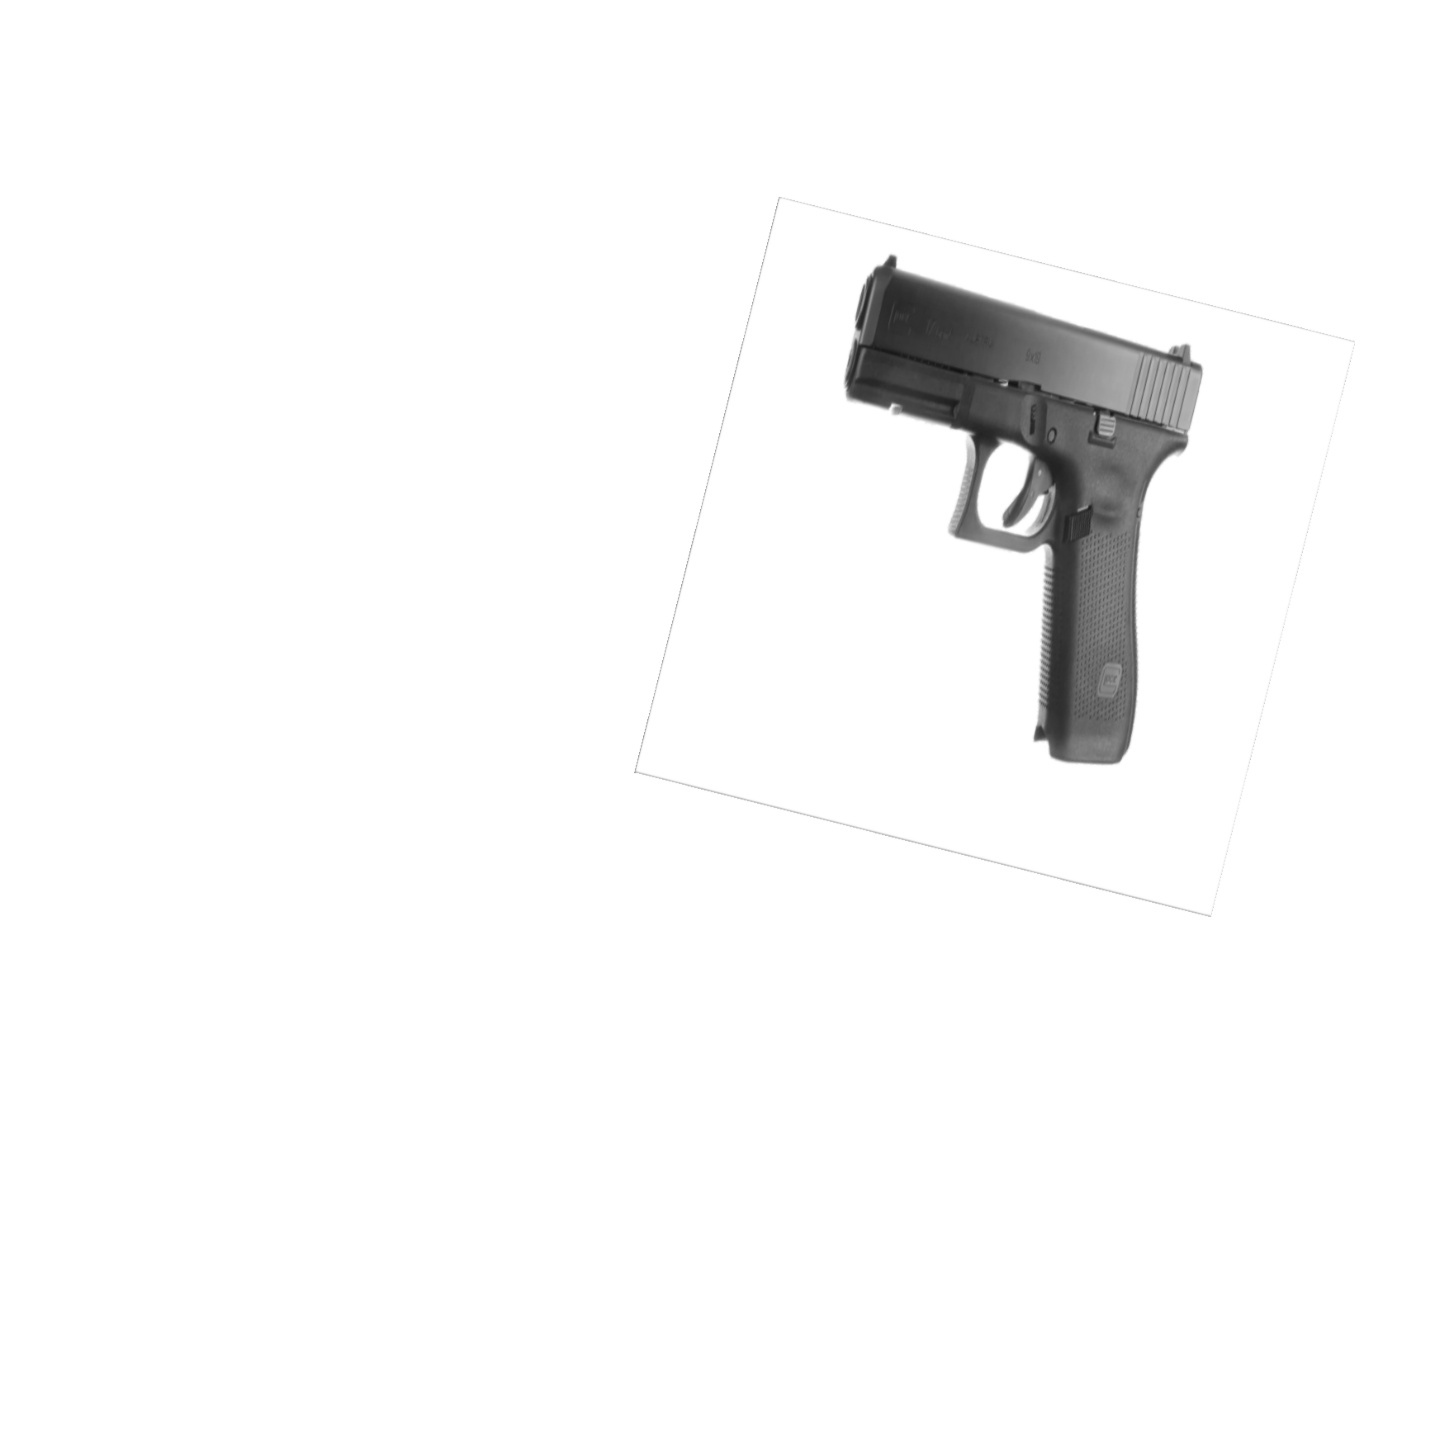gun: (840, 252, 1205, 766)
